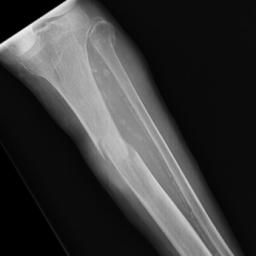cancer: (101, 137, 146, 193)
